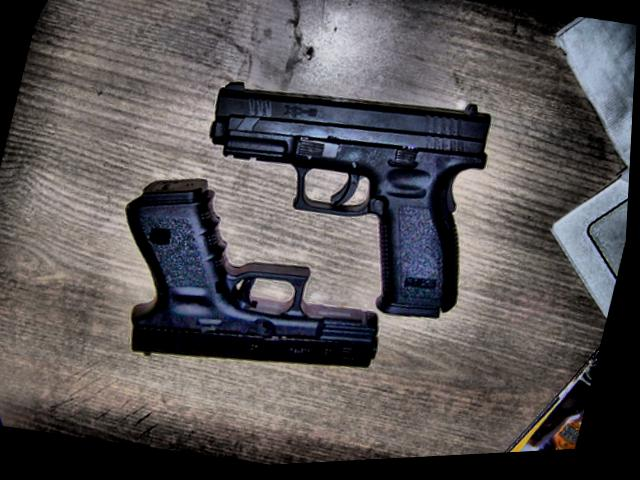pistol: (169, 59, 510, 341), (91, 156, 415, 400)
